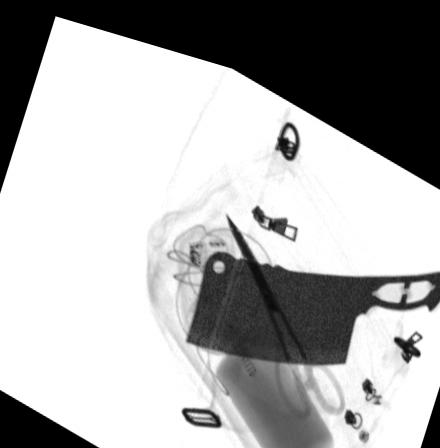Knife: (185, 240, 440, 346)
Scissors: (228, 199, 344, 400)
